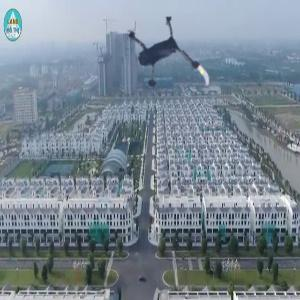drone: (106, 8, 217, 119)
